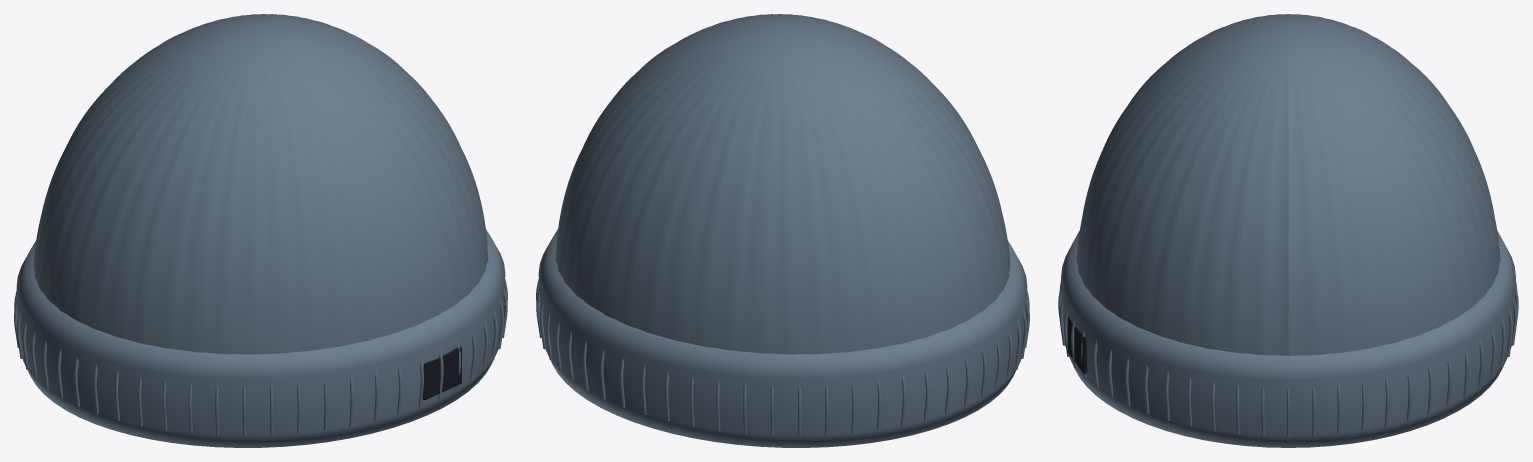
The model's file is atelier_beanie.glb.
The picture shows the model from 3 angles, left to right: view 1: azimuth 30°, elevation 25°; view 2: azimuth 150°, elevation 25°; view 3: azimuth 270°, elevation 25°; orthographic projection.
Visible parts, largest first — view 1: beanie:BeanieV5_RibbedWool, beanie:Atelier_SoftRubber; view 2: beanie:BeanieV5_RibbedWool; view 3: beanie:BeanieV5_RibbedWool, beanie:Atelier_SoftRubber.
Part boxes in pixels (x1,y1,x2,y2): beanie:BeanieV5_RibbedWool: (14,14,507,447); beanie:Atelier_SoftRubber: (422,346,461,399); beanie:BeanieV5_RibbedWool: (536,14,1029,447); beanie:BeanieV5_RibbedWool: (1058,14,1518,447); beanie:Atelier_SoftRubber: (1067,316,1087,373).
Size of the model in its own units: 0.2064 by 0.146 by 0.192.
